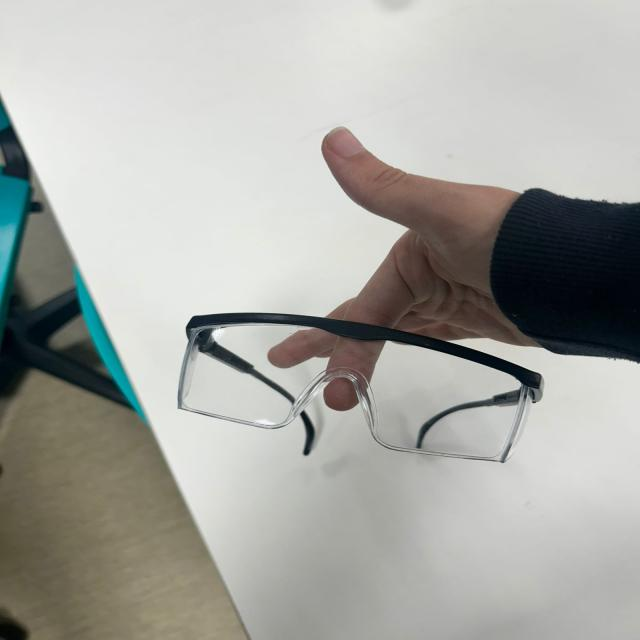oculos-epi: (173, 313, 546, 466)
